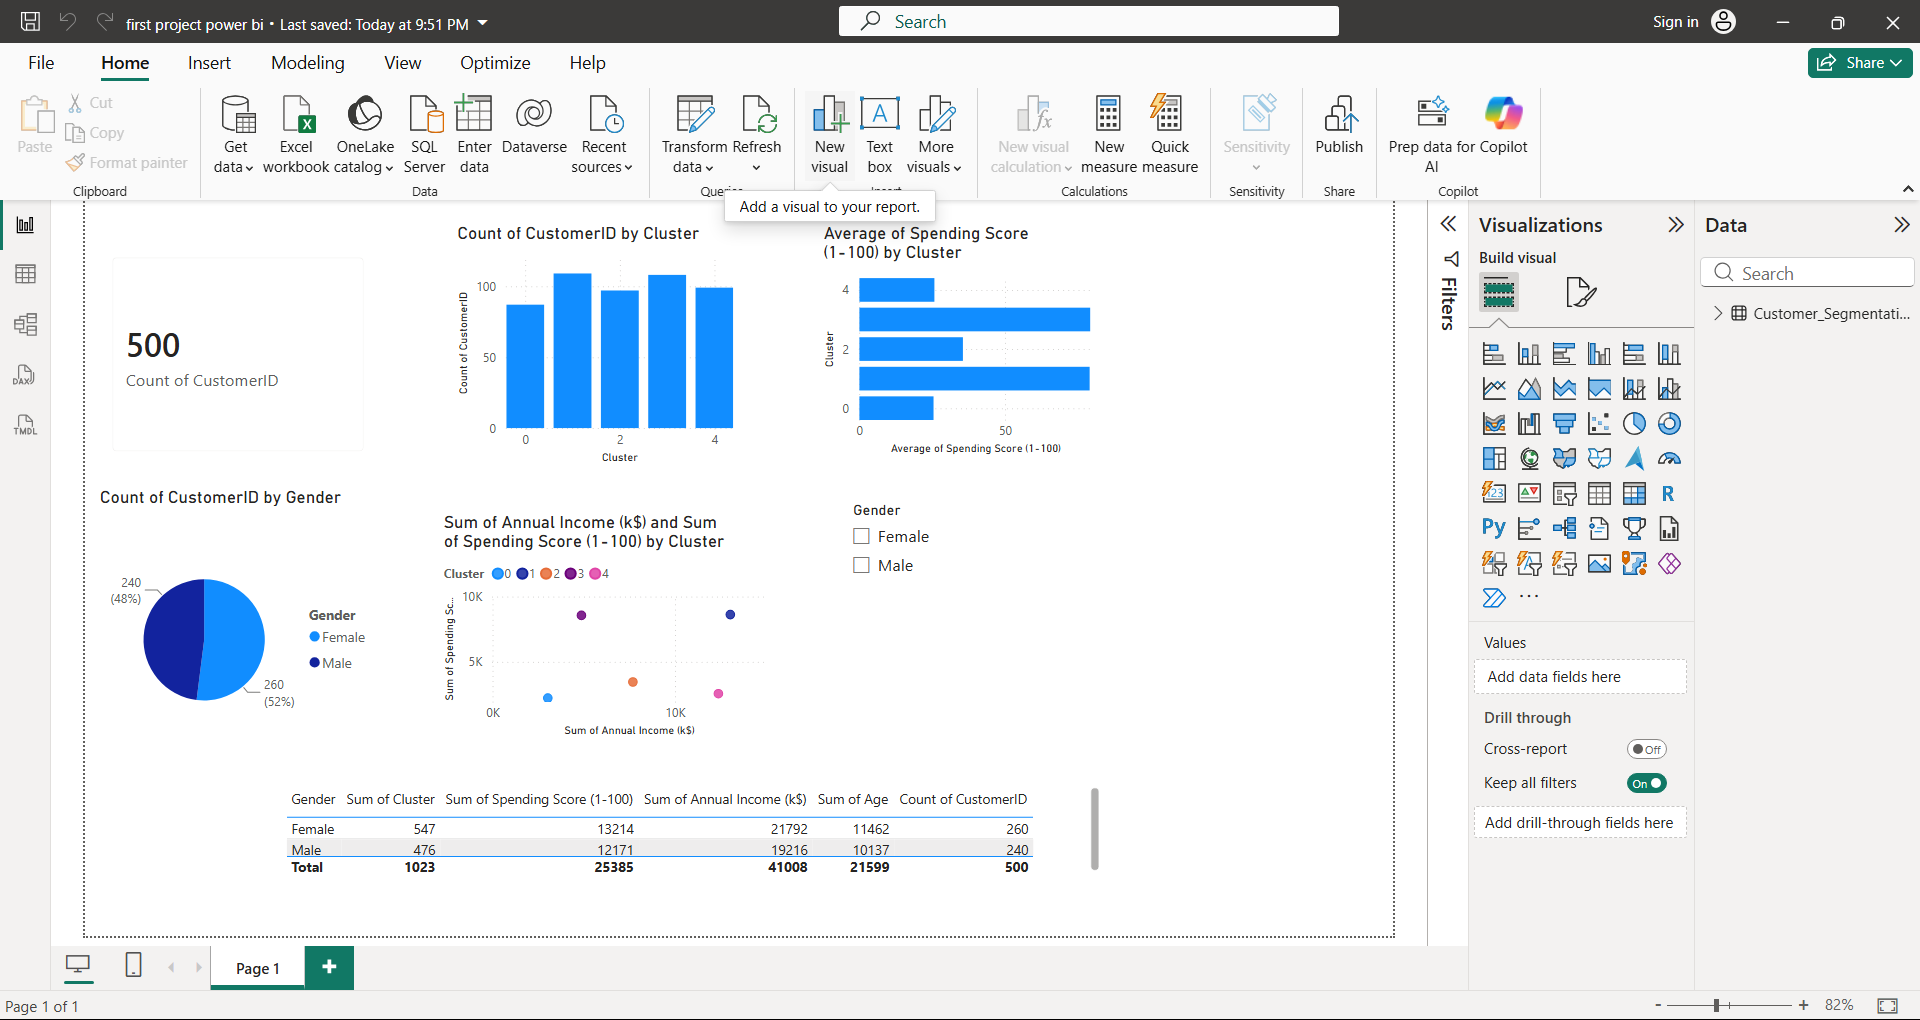

The page's visual inventory and layout, read from the dashboard file:
{"tool":"powerbi","page":{"name":"Page 1","canvas":[1280,720],"ordinal":0},"visuals":[{"type":"cardVisual","fields":{"Data":["CountNonNull(Customer_Segmentation_Result.CustomerID)","CountNonNull(Customer_Segmentation_Result.CustomerID)"]},"box":[10,38.9,280,224.4],"z":0},{"type":"pieChart","fields":{"Category":["Customer_Segmentation_Result.Gender"],"Y":["CountNonNull(Customer_Segmentation_Result.CustomerID)"]},"box":[10,280,280,280],"z":1},{"type":"clusteredColumnChart","fields":{"Category":["Customer_Segmentation_Result.Cluster"],"Y":["CountNonNull(Customer_Segmentation_Result.CustomerID)"]},"box":[360,22.2,280,241.1],"z":2},{"type":"scatterChart","fields":{"X":["Sum(Customer_Segmentation_Result.Annual Income (k$))"],"Y":["Sum(Customer_Segmentation_Result.Spending Score (1-100))"],"Series":["Customer_Segmentation_Result.Cluster"]},"box":[345.6,304.4,335.6,225.6],"z":3},{"type":"clusteredBarChart","fields":{"Category":["Customer_Segmentation_Result.Cluster"],"Y":["Avg(Customer_Segmentation_Result.Spending Score (1-100))"]},"box":[717.8,22.2,280,232.2],"z":4},{"type":"slicer","fields":{"Values":["Customer_Segmentation_Result.Gender"]},"box":[738.9,290,280,240],"z":5},{"type":"tableEx","fields":{"Values":["Customer_Segmentation_Result.Gender","Sum(Customer_Segmentation_Result.Cluster)","Sum(Customer_Segmentation_Result.Spending Score (1-100))","Sum(Customer_Segmentation_Result.Annual Income (k$))","Sum(Customer_Segmentation_Result.Age)","CountNonNull(Customer_Segmentation_Result.CustomerID)"]},"box":[191.1,570,806.7,97.8],"z":6}]}

Visuals, with their boxes on the page's 1280x720 design canvas (x1, y1, x2, y2). These are canvas units, not pixel positions in the 1920x1020 screenshot, which may show the page scaled, cropped or inside an application window:
cardVisual - CountNonNull(Customer_Segmentation_Result.CustomerID) x CountNonNull(Customer_Segmentation_Result.CustomerID): <bbox>10, 39, 290, 263</bbox>
pieChart - Customer_Segmentation_Result.Gender x CountNonNull(Customer_Segmentation_Result.CustomerID): <bbox>10, 280, 290, 560</bbox>
clusteredColumnChart - Customer_Segmentation_Result.Cluster x CountNonNull(Customer_Segmentation_Result.CustomerID): <bbox>360, 22, 640, 263</bbox>
scatterChart - Sum(Customer_Segmentation_Result.Annual Income (k$)) x Sum(Customer_Segmentation_Result.Spending Score (1-100)): <bbox>346, 304, 681, 530</bbox>
clusteredBarChart - Customer_Segmentation_Result.Cluster x Avg(Customer_Segmentation_Result.Spending Score (1-100)): <bbox>718, 22, 998, 254</bbox>
slicer - Customer_Segmentation_Result.Gender: <bbox>739, 290, 1019, 530</bbox>
tableEx - Customer_Segmentation_Result.Gender x Sum(Customer_Segmentation_Result.Cluster): <bbox>191, 570, 998, 668</bbox>
